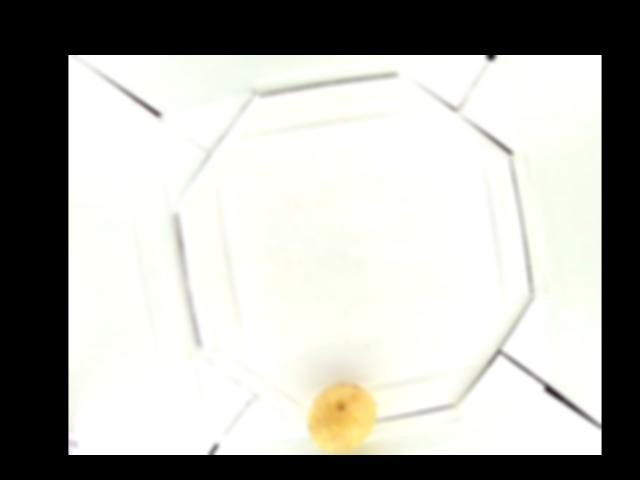Potato: (308, 380, 374, 454)
